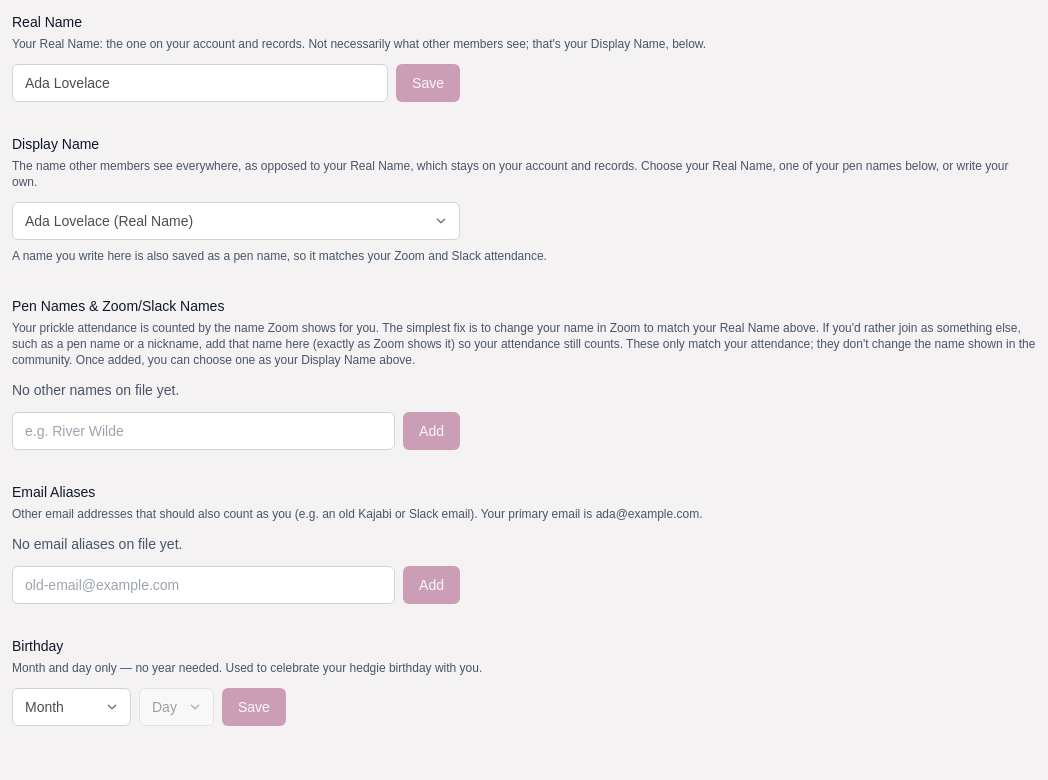
Test case: IdentityPanel › lets a member write their own display name, which is saved through one action
Check: the field showing "Ada Lovelace" is shown, box [12, 64, 388, 102]
Select "Write your own…" in the 1st dropdown showing "Ada Lovelace (Real Name)" at (236, 221), box [12, 202, 460, 240]
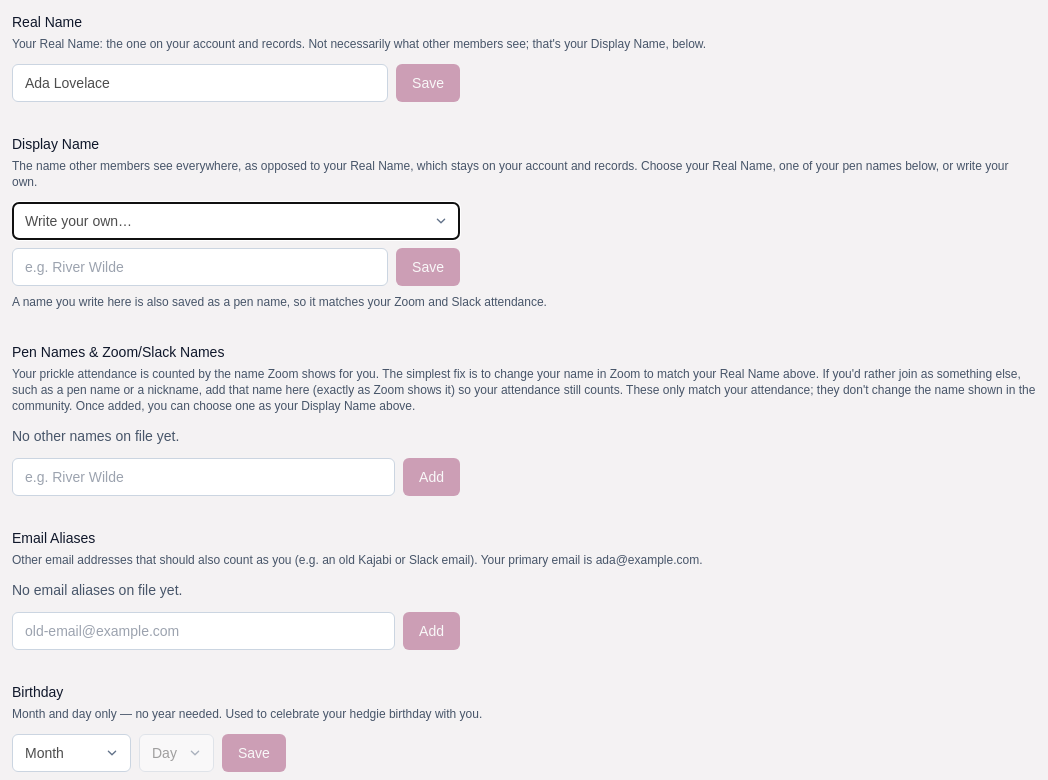
Type "River Wilde" into the field named "Your own display name".
click(200, 267); type("River Wilde")  # box [12, 248, 388, 286]
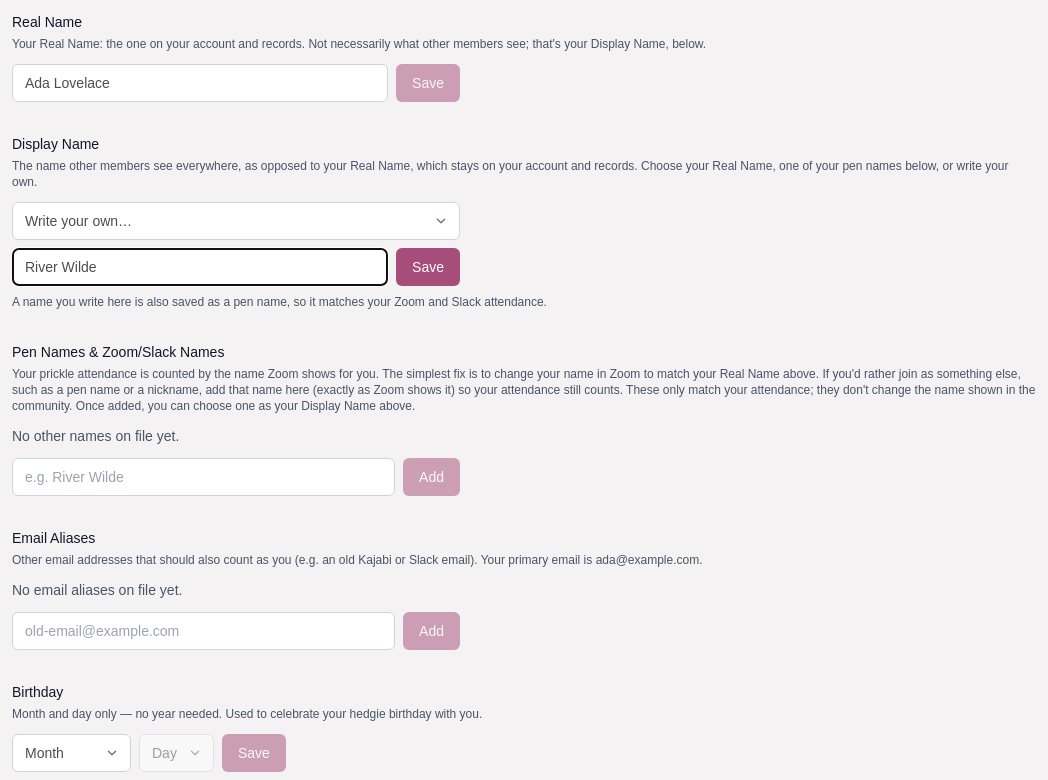
Click the 2nd button "Save".
click(428, 267)  # box [396, 248, 460, 286]
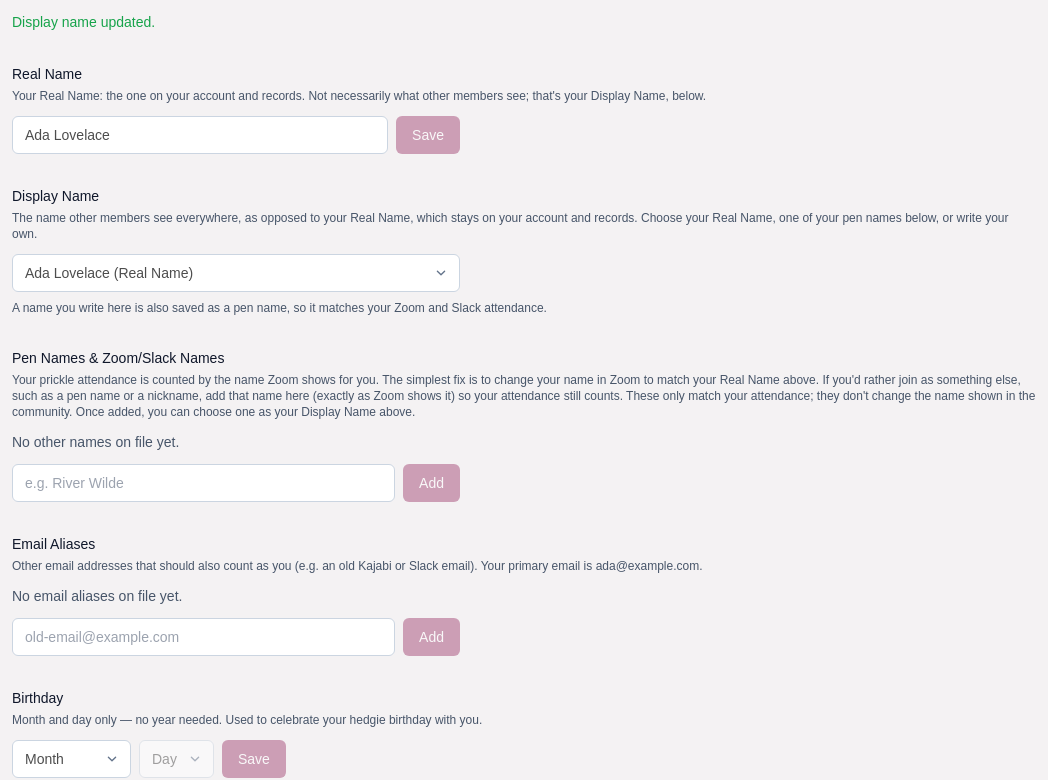
Check: the message reads "Display name updated.", box [12, 14, 155, 30]
